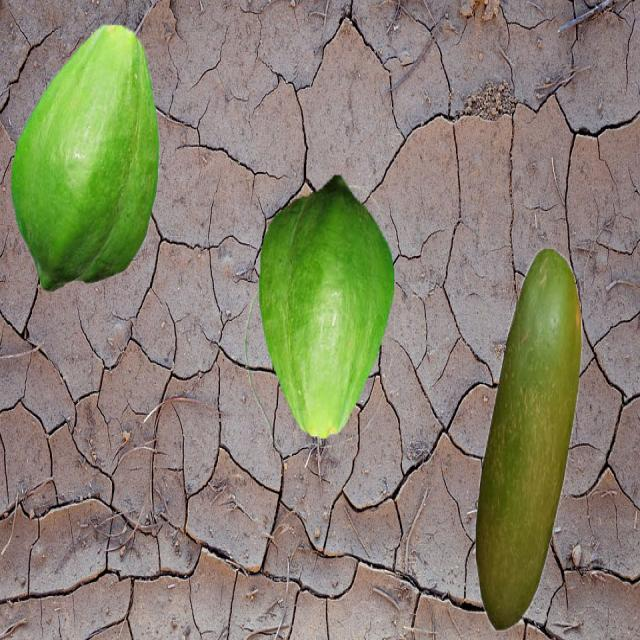Pepaya unrippen: (255, 179, 405, 456), (12, 20, 160, 298), (476, 252, 578, 636)
